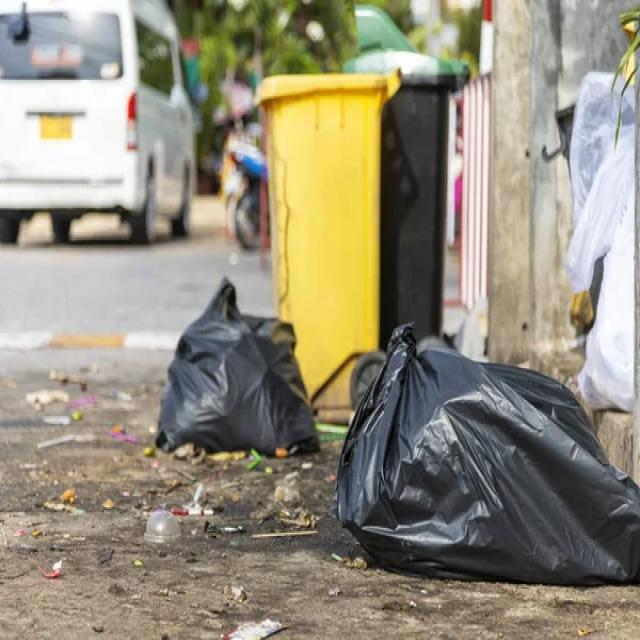garbage: (326, 312, 640, 604), (151, 272, 322, 471), (552, 57, 640, 411)
